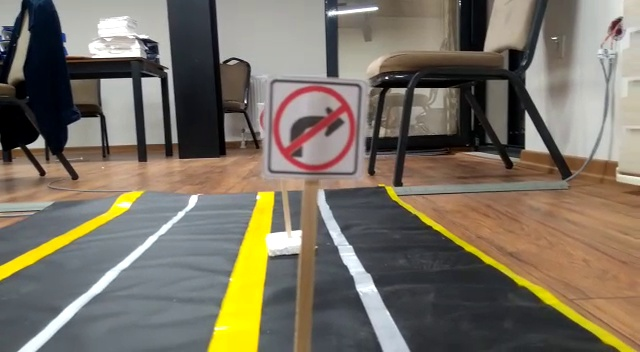saga_donulmez: (270, 80, 358, 171)
